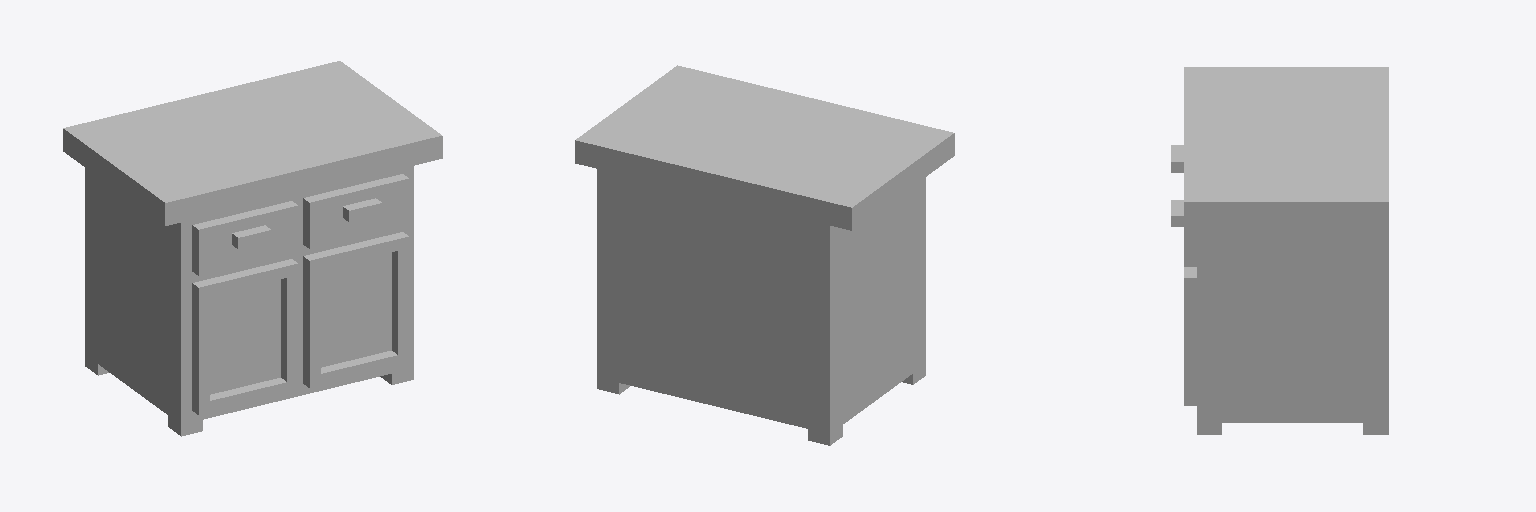
Rendered from chickenDrawer.obj.
3 views of the same model, side by side, from view 1: azimuth 30°, elevation 25°; view 2: azimuth 150°, elevation 25°; view 3: azimuth 270°, elevation 25° (orthographic).
Visible parts, largest first — view 1: object 1; view 2: object 1; view 3: object 1.
Part boxes in pixels (bbox=[...]): object 1: bbox=[63, 61, 442, 436]; object 1: bbox=[575, 65, 954, 445]; object 1: bbox=[1171, 67, 1388, 434].
Size of the model in its own units: 5 by 4.2 by 3.4.